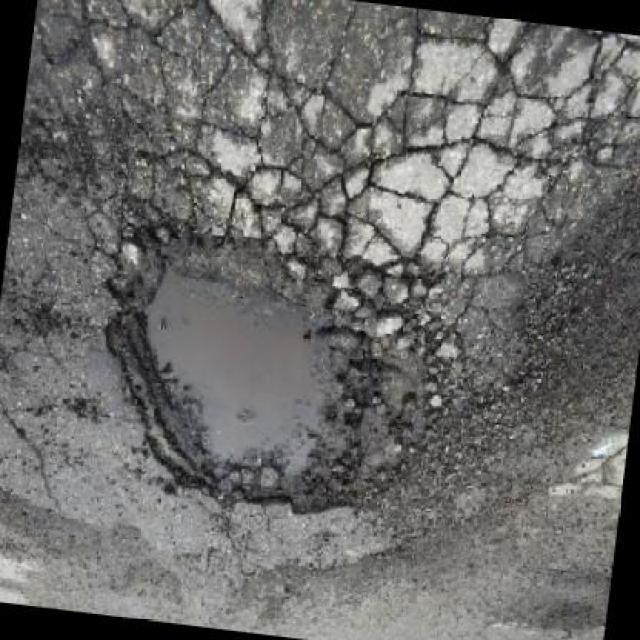pothole: (78, 203, 464, 542)
